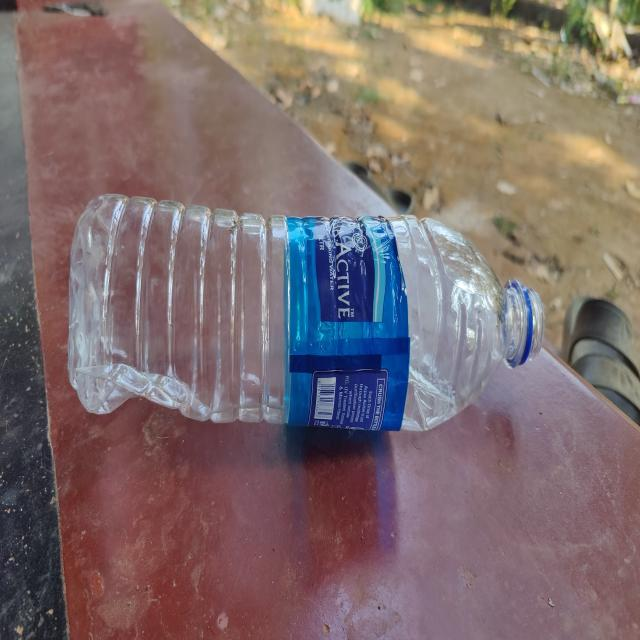plastic: (66, 186, 544, 437)
